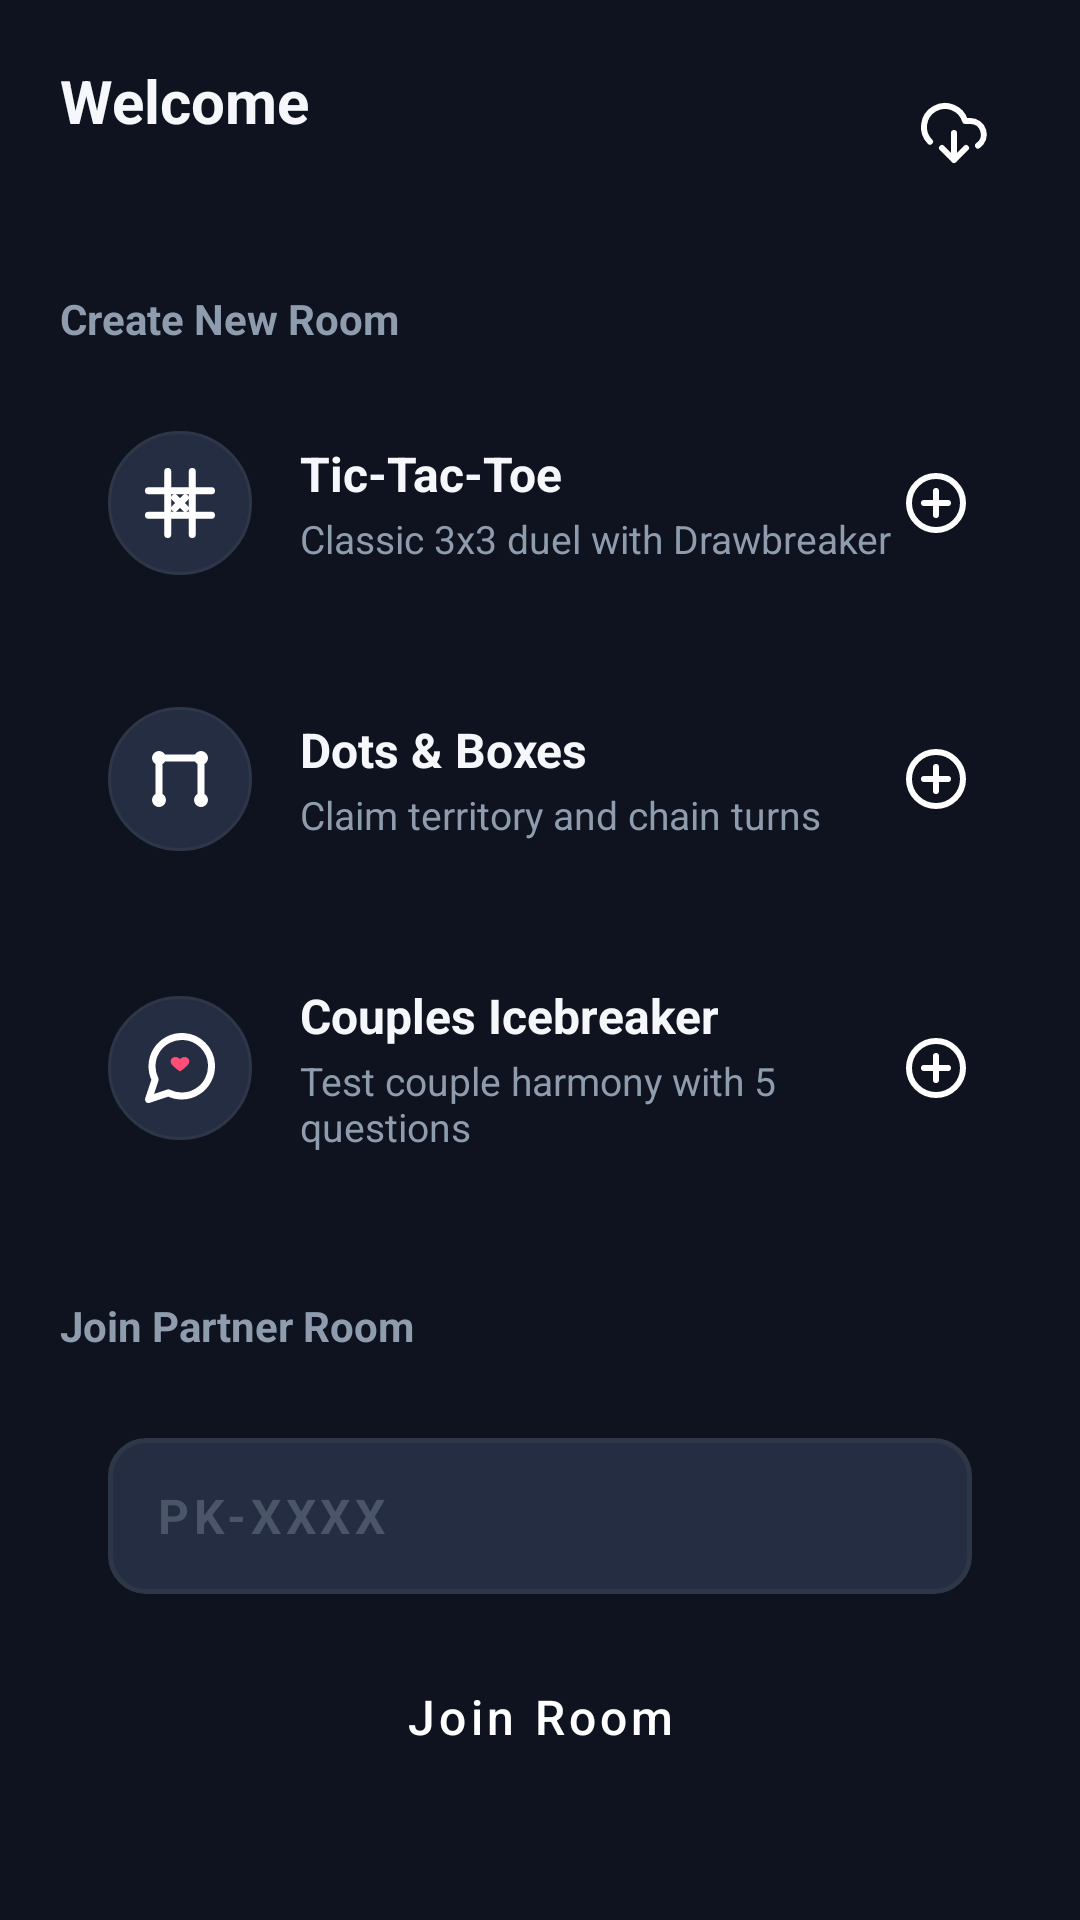

Point at icon controls on the screen. Image size 1080x1920, points as (x=x, y=y).
create room: (x=936, y=503), (x=936, y=779), (x=936, y=1068)
ota update: (x=954, y=132)
